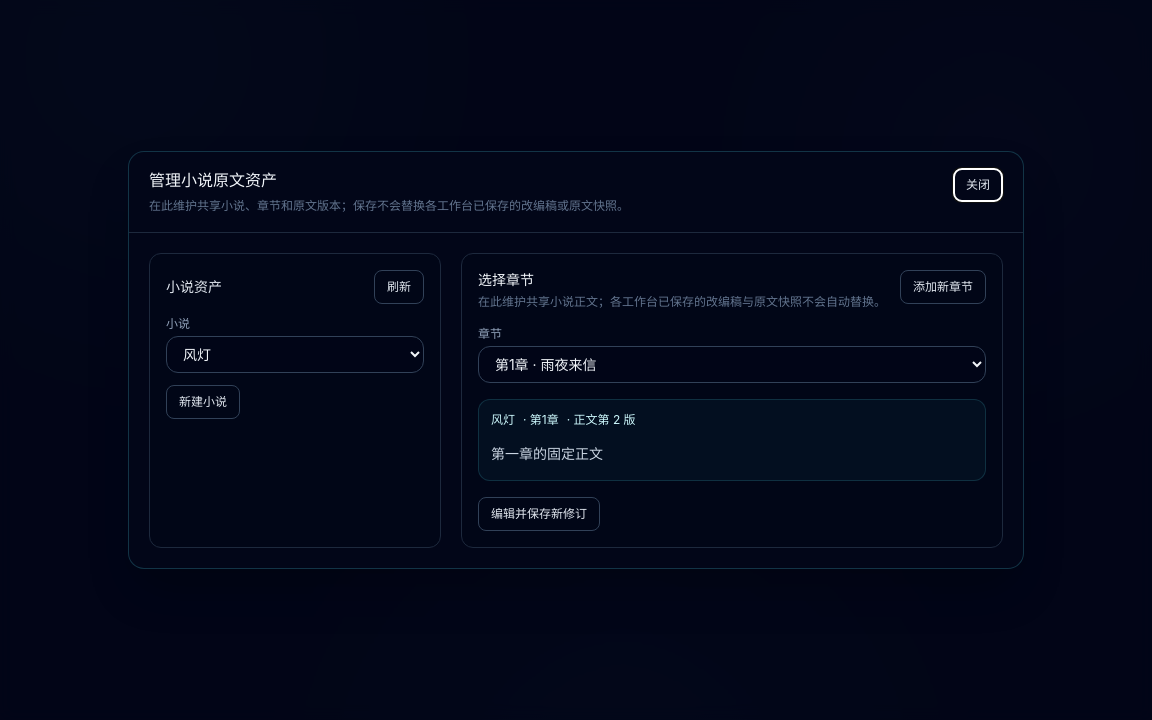
Test case: NovelAssetManager › warns before a close or refresh when the local editor draft cannot be persisted
Click the button "编辑并保存新修订" at (539, 514), box [478,497,600,531]
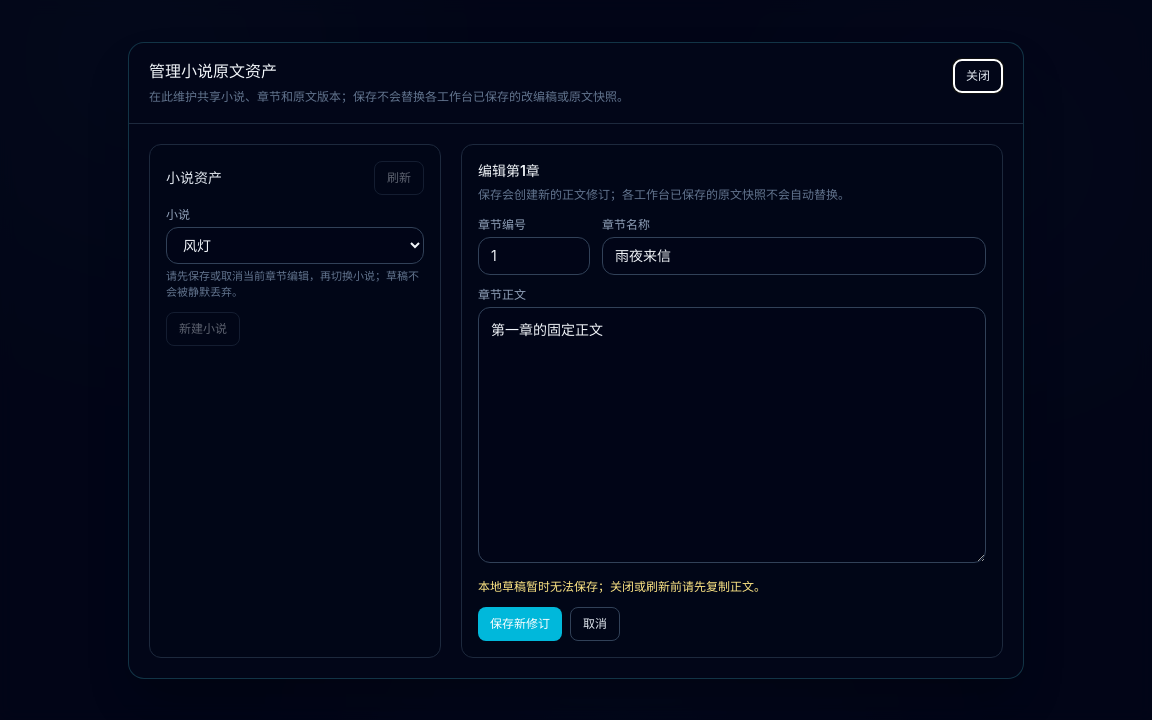
Expected: the text "本地草稿暂时无法保存；关闭或刷新前请先复制正文。" is shown, [478,578,766,594]
